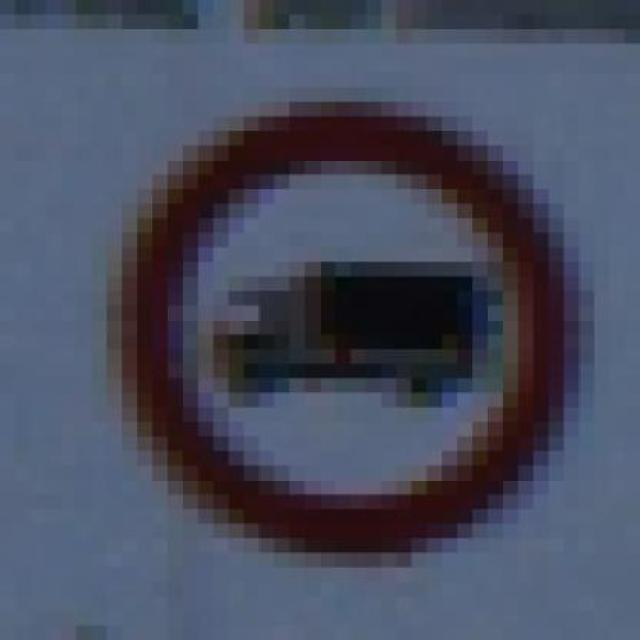Truck traffic is prohibited: (61, 72, 610, 568)
